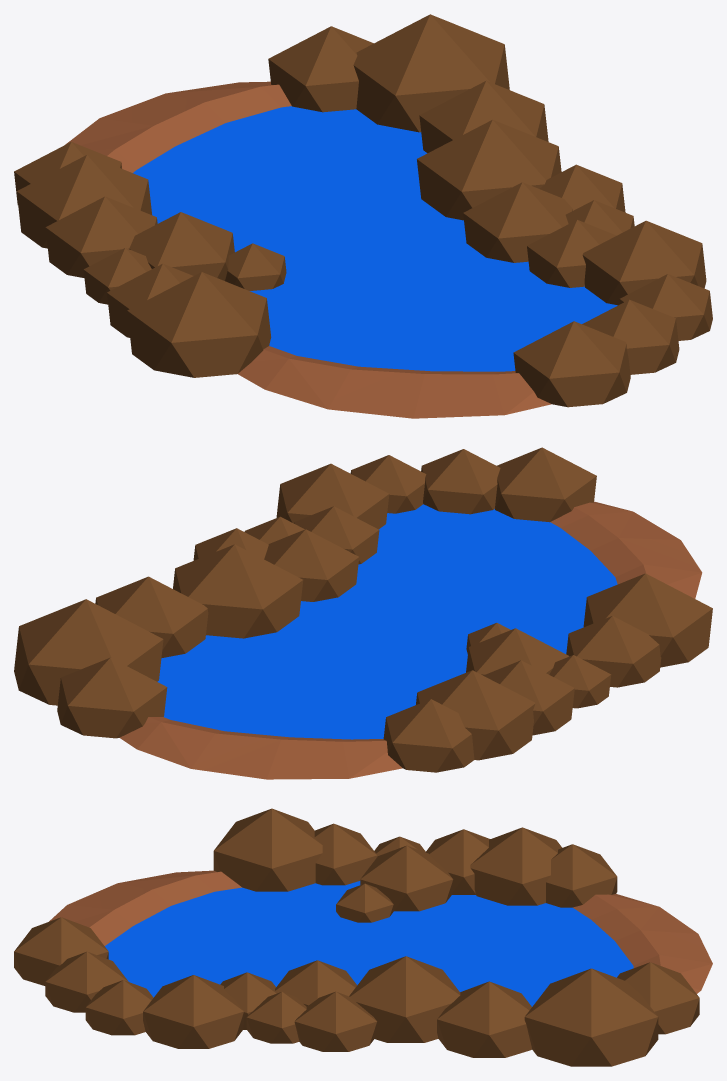
File: pond.FBX
The picture shows the model from 3 angles, top to bottom: view 1: azimuth 30°, elevation 25°; view 2: azimuth 150°, elevation 25°; view 3: azimuth 270°, elevation 25°; orthographic projection. The views are drawn at different scales.
Visible parts, largest first — view 1: pond_edge; view 2: pond_edge; view 3: pond_edge.
Part boxes in pixels (x1,y1,x2,y2): pond_edge: [14, 14, 712, 418]; pond_edge: [14, 447, 712, 779]; pond_edge: [14, 808, 712, 1066].
Bounding box in the file's own units: 95.09 × 14.33 × 126.
